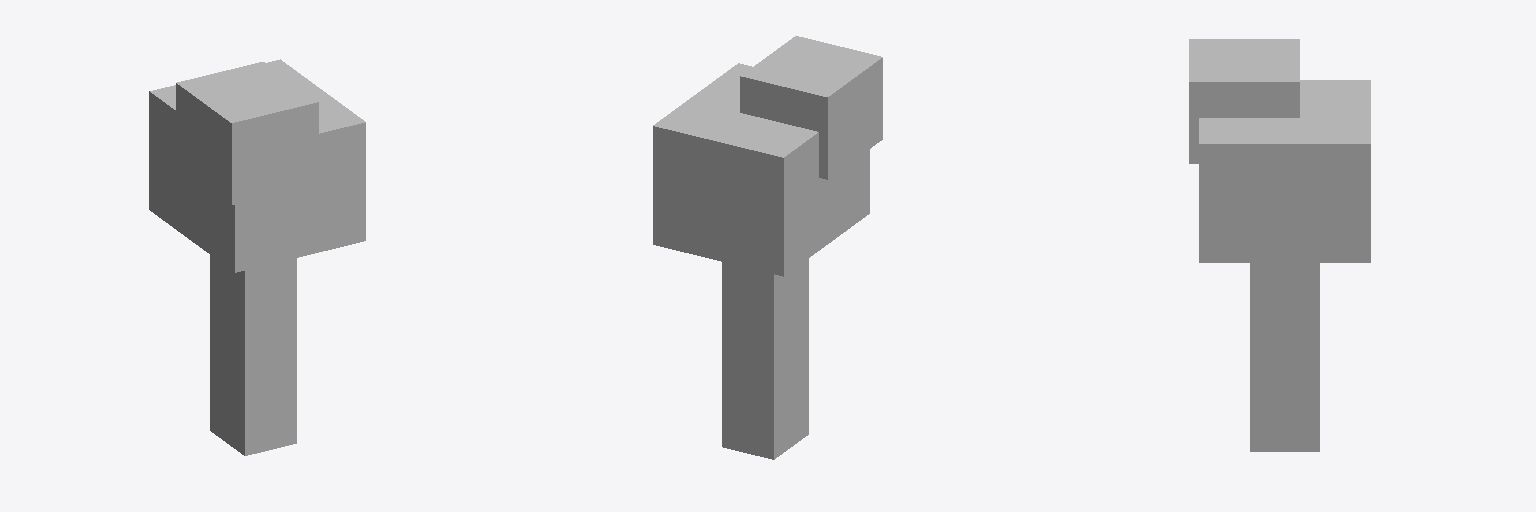
Rendered from tree1.obj.
3 renders of one model, left to right at view 1: azimuth 30°, elevation 25°; view 2: azimuth 150°, elevation 25°; view 3: azimuth 270°, elevation 25°, orthographic.
Parts seen in each view (by area): view 1: object 1; view 2: object 1; view 3: object 1.
Boxes of the visible parts, x1,y1,x2,y2 form: object 1: [149, 59, 365, 455]; object 1: [653, 36, 882, 459]; object 1: [1189, 39, 1370, 451].
Bounding box in the file's own units: 1.6 × 4 × 1.8.